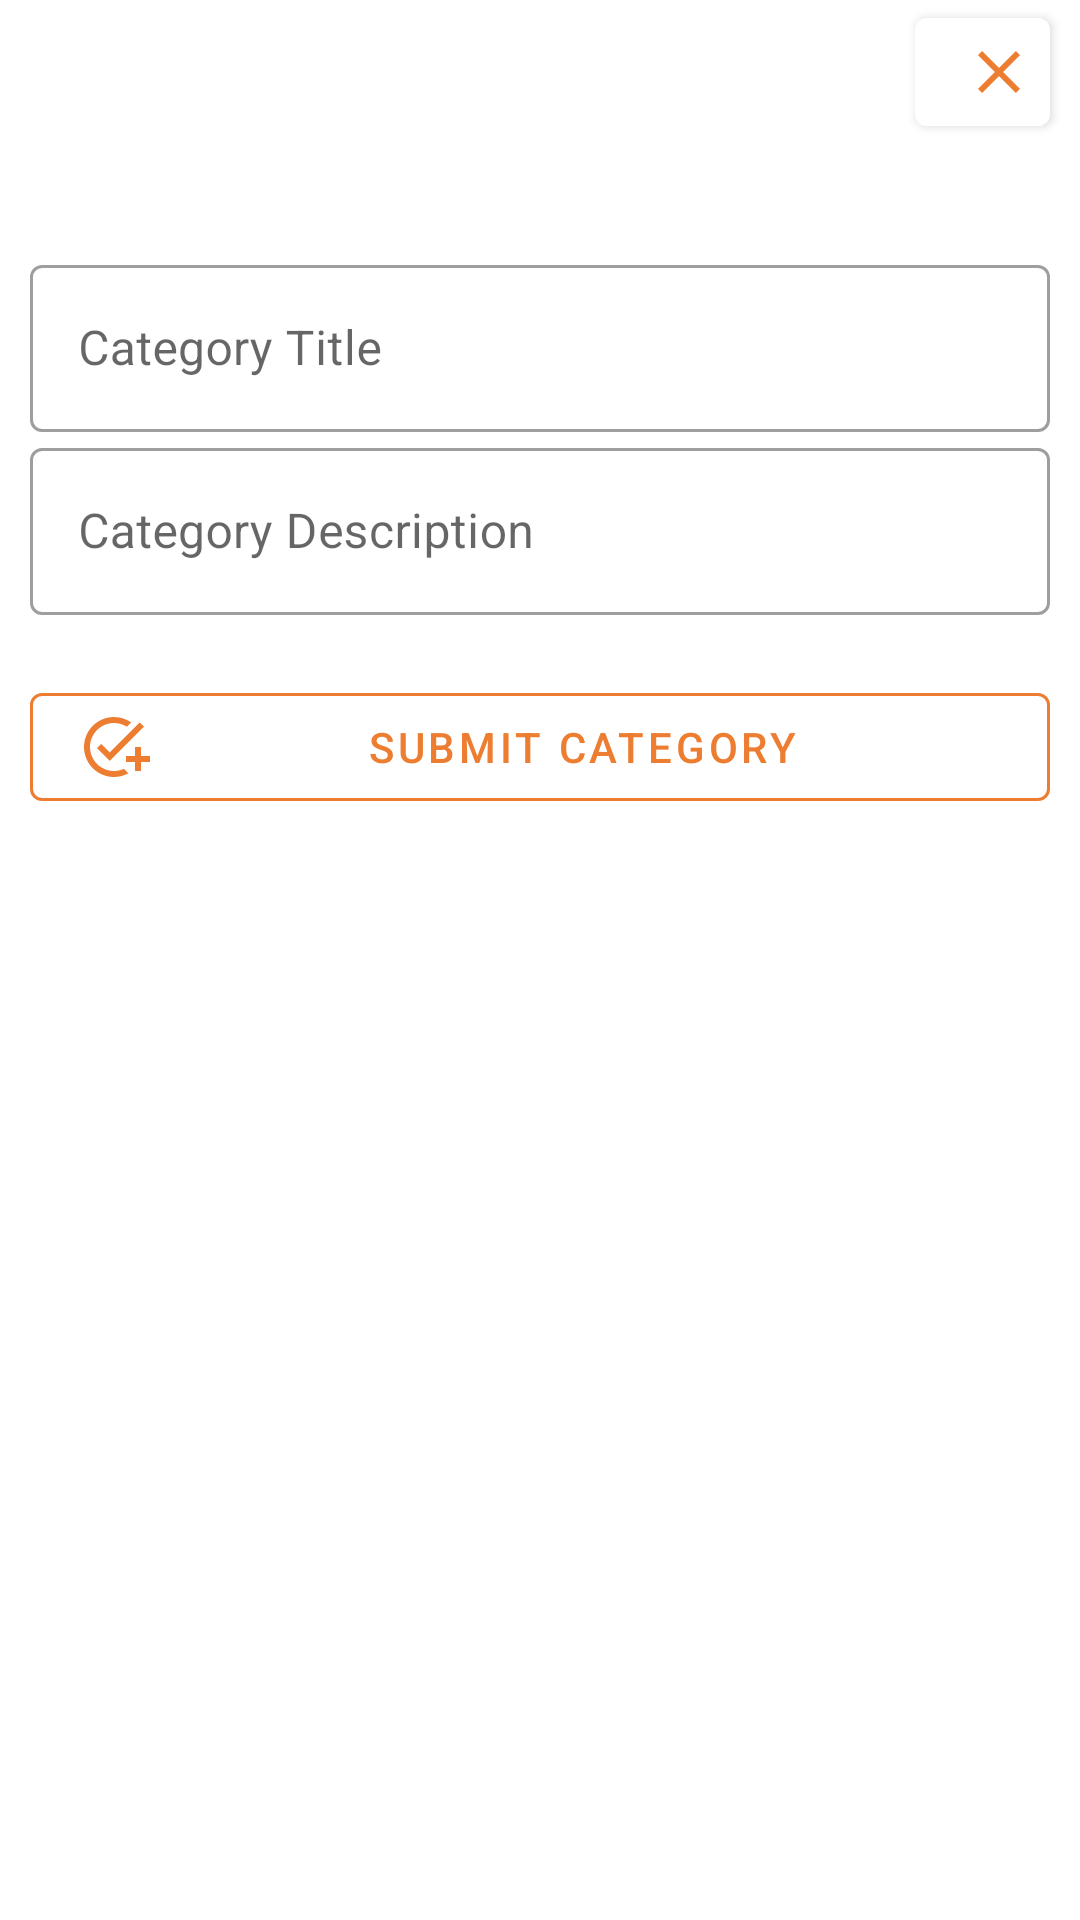

Icons on this 1080 x 1920 Android screen, each with the point to tap as (x=x, y=y):
Close Add Category: (x=999, y=72)
